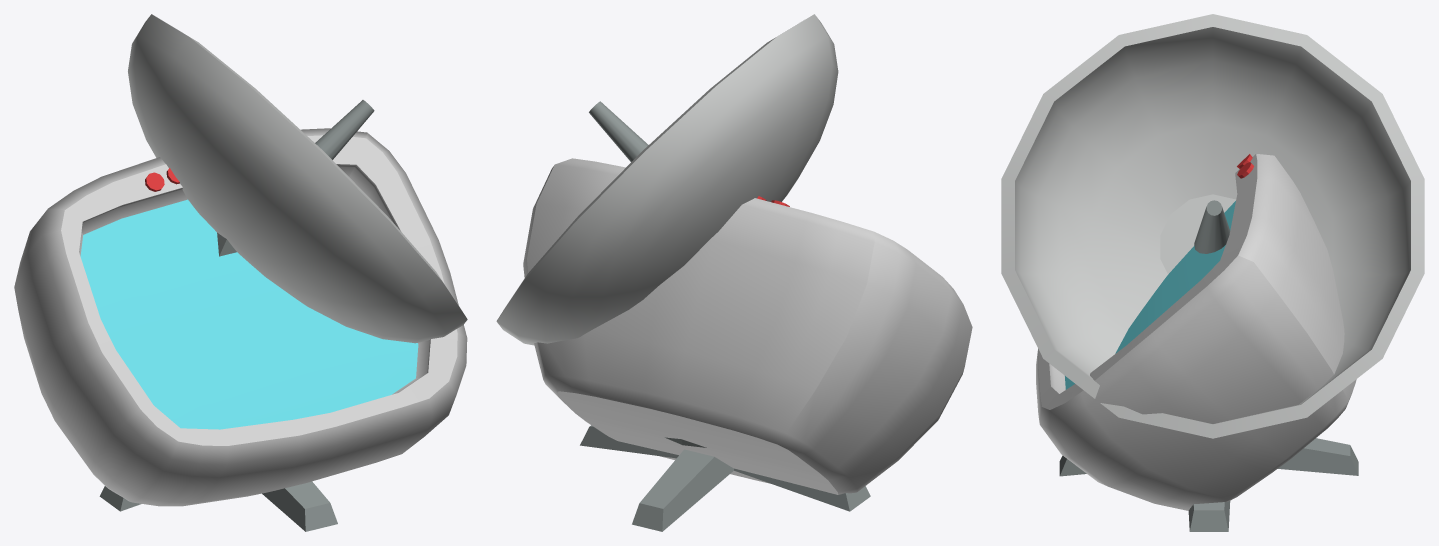
Rendered from collectables_AntennaMonitor.fbx.
3 renders of one model, left to right at view 1: azimuth 30°, elevation 25°; view 2: azimuth 150°, elevation 25°; view 3: azimuth 270°, elevation 25°, orthographic. The views are drawn at different scales.
Parts seen in each view (by area): view 1: collectable_Monitor, collectable_Antenna; view 2: collectable_Monitor, collectable_Antenna; view 3: collectable_Antenna, collectable_Monitor.
Part boxes in pixels (x1,y1,x2,y2): collectable_Monitor: (14,128,467,506); collectable_Antenna: (99,14,467,531); collectable_Monitor: (523,158,972,494); collectable_Antenna: (496,14,870,531); collectable_Antenna: (1001,14,1424,531); collectable_Monitor: (1036,154,1356,510).
Size of the model in its own units: 0.6192 by 0.6934 by 0.6088.
